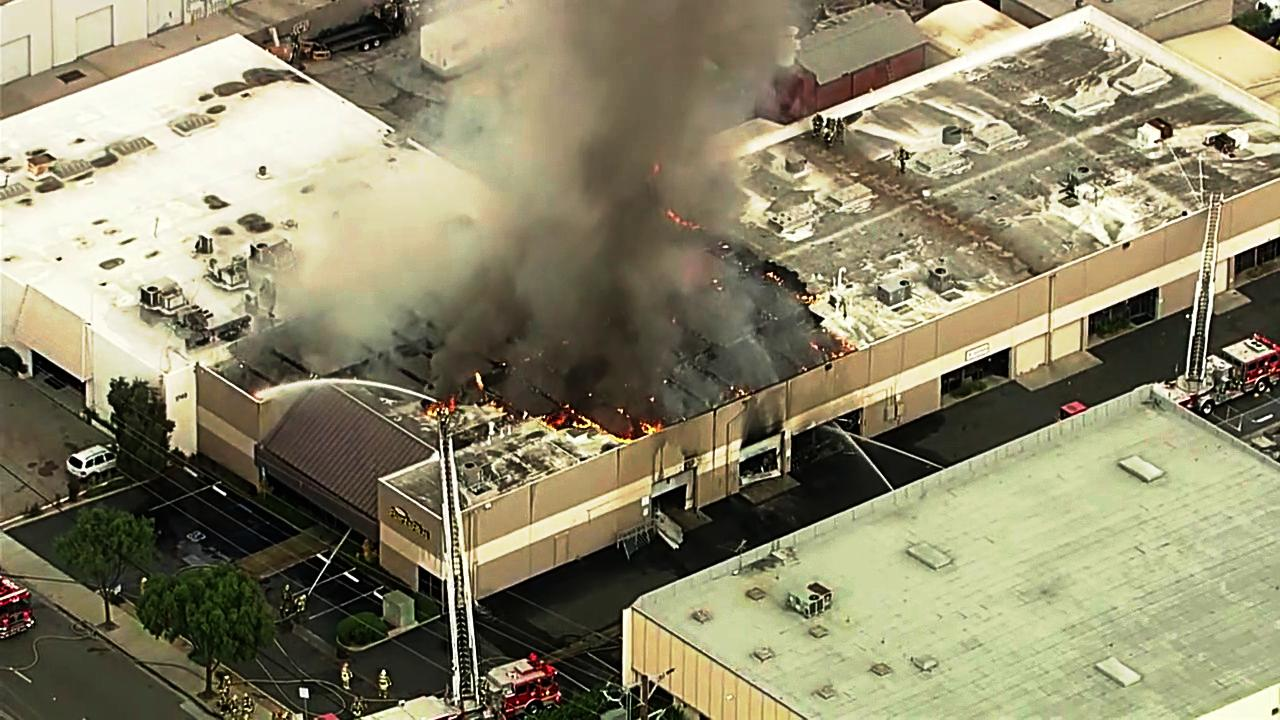smoke: (520, 15, 706, 314)
